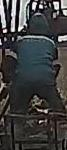vest: (3, 33, 61, 97)
